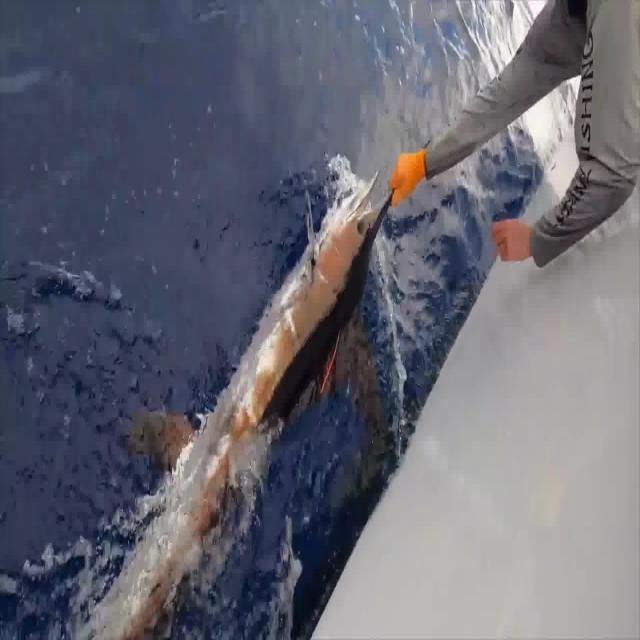White Marlin: (65, 138, 433, 640)
